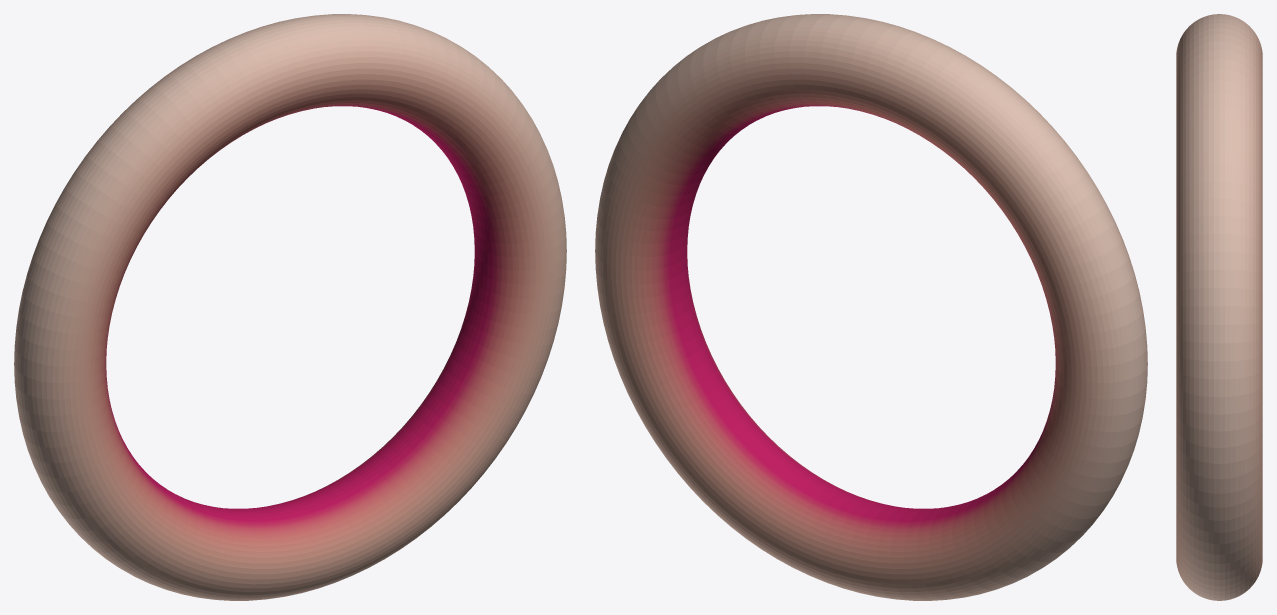
3 views of the same model, side by side, from view 1: azimuth 30°, elevation 25°; view 2: azimuth 150°, elevation 25°; view 3: azimuth 270°, elevation 25° (orthographic). The views are drawn at different scales.
Parts seen in each view (by area): view 1: world; view 2: world; view 3: world.
Boxes of the visible parts, x1,y1,x2,y2 form: world: [14, 14, 566, 600]; world: [595, 14, 1147, 600]; world: [1176, 14, 1262, 600].
Bounding box in the file's own units: 35.2 × 35.2 × 5.19.
